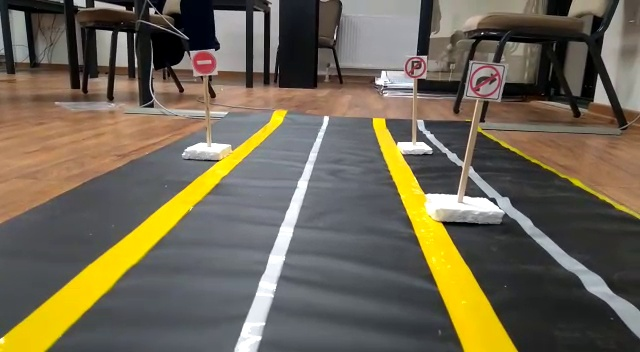girisi_olmayan_yol: (192, 51, 217, 74)
park_yapilmaz: (406, 54, 427, 79)
saga_donulmez: (470, 62, 501, 101)
